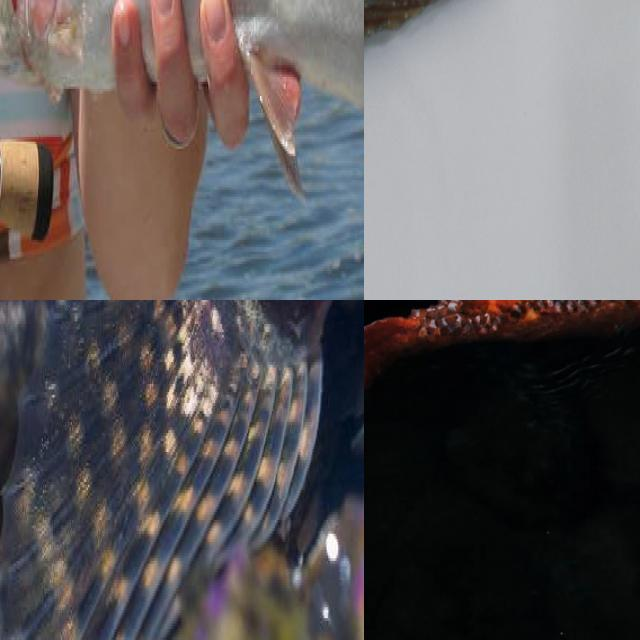fish: (0, 300, 364, 640), (0, 0, 364, 300), (364, 0, 640, 146)
